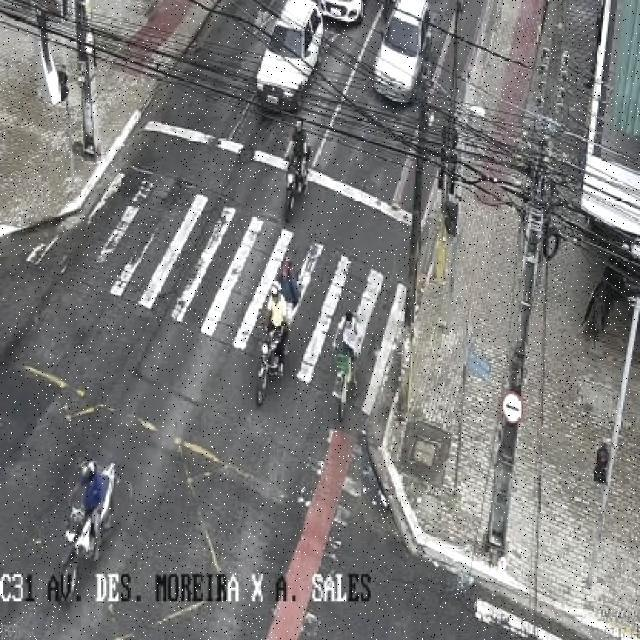Car: (368, 0, 434, 106), (313, 0, 371, 28)
Cycle: (240, 267, 306, 395), (42, 455, 121, 557), (329, 294, 372, 411), (279, 103, 316, 217)
Van: (256, 0, 317, 108)
